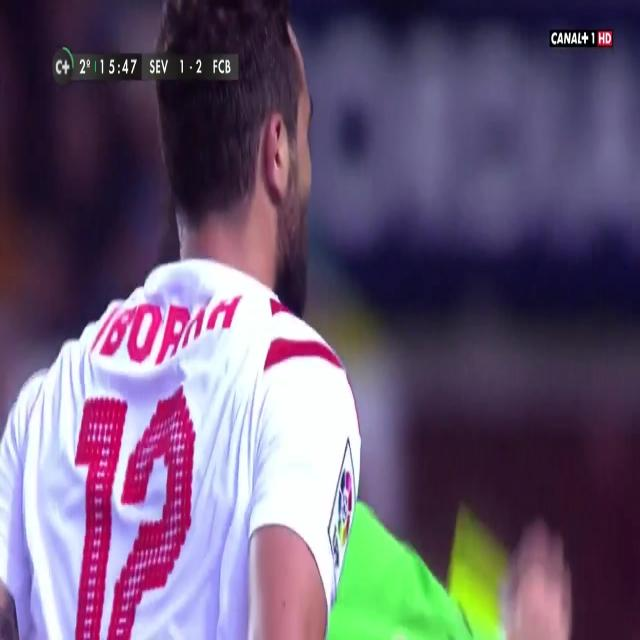Player: (2, 5, 366, 640)
